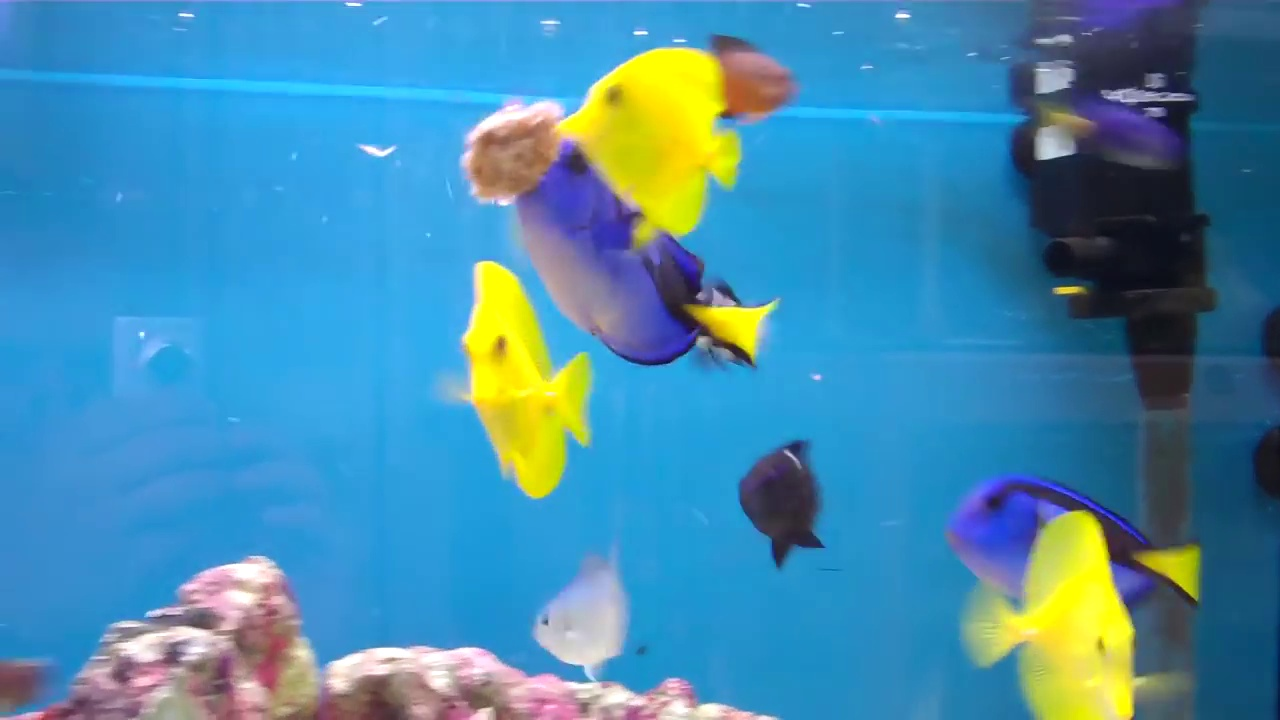blue tang surgeonfish: (512, 147, 782, 384)
saddle butterfly fish: (430, 247, 600, 514), (546, 32, 751, 232), (982, 502, 1141, 720)
